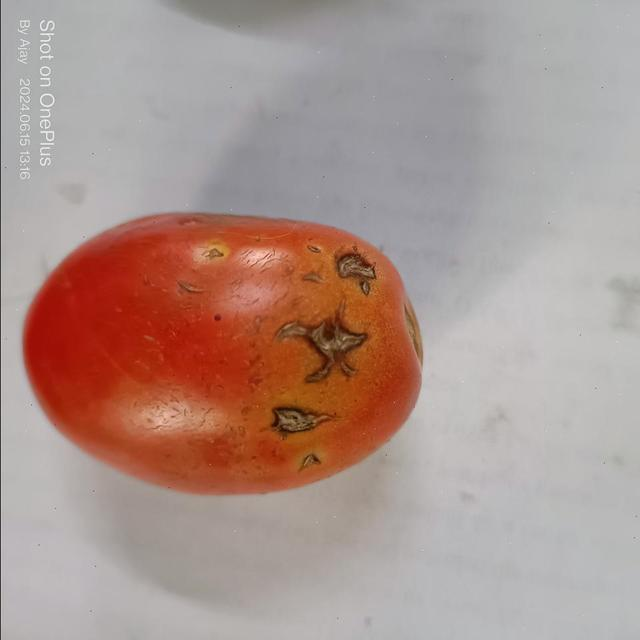Bacterial Spot Fruit: (19, 19, 240, 308)
